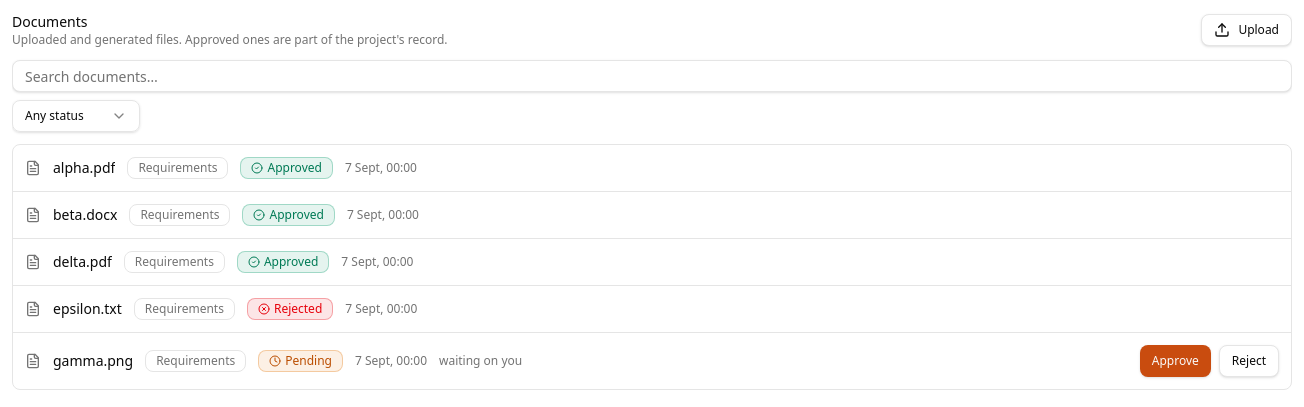
Test: the documents panel › says NO MATCH rather than no documents when a filter empties the list
The image size is (1304, 407).
Type "nothing-matches-this" into the field labelled "Search documents". click: (652,76)
box: [12,60,1292,92]
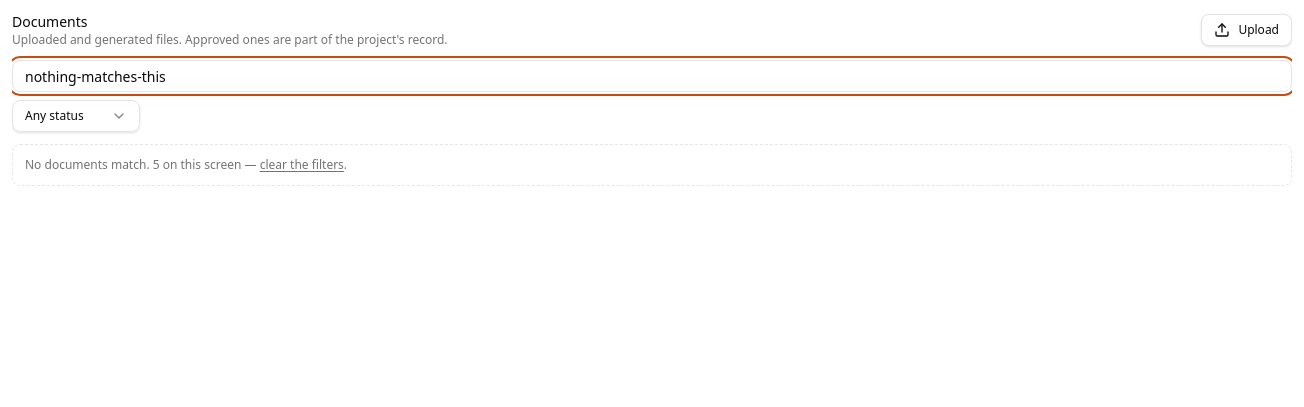
Check: the text "No documents match. 5 on this screen — clear the filters ." is shown, box [12,144,1292,186]
